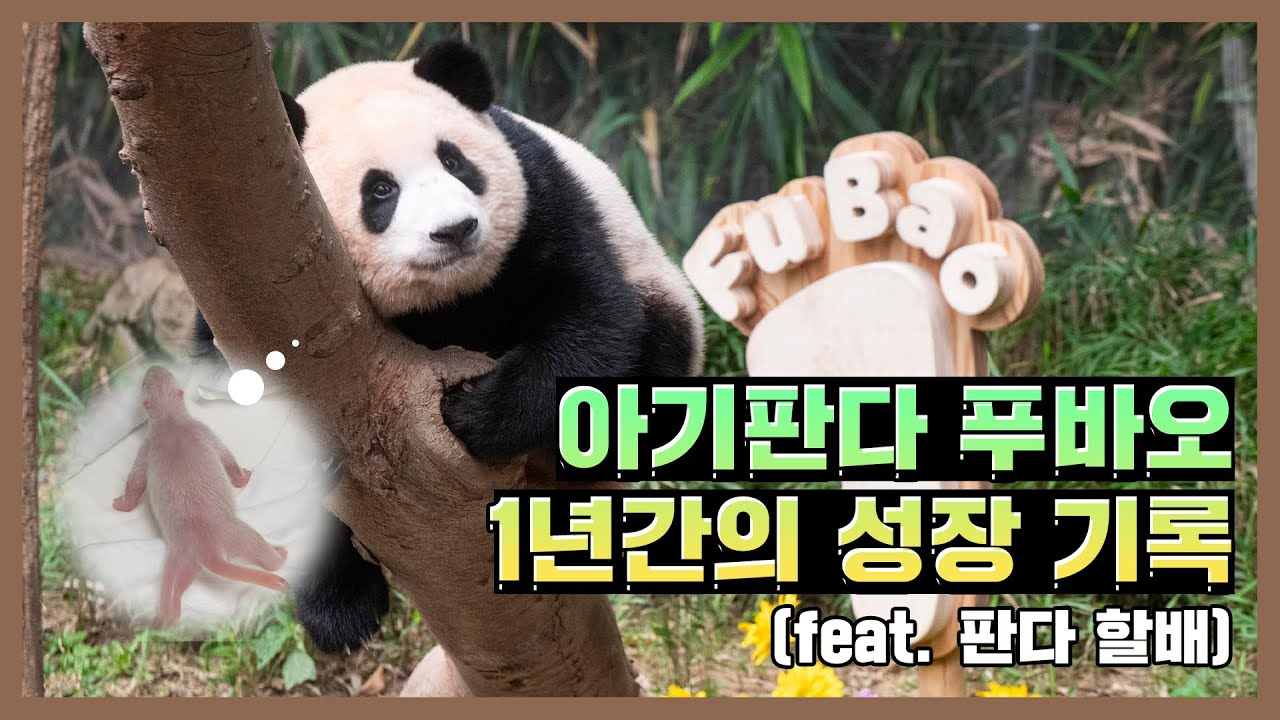panda: (243, 52, 748, 537)
